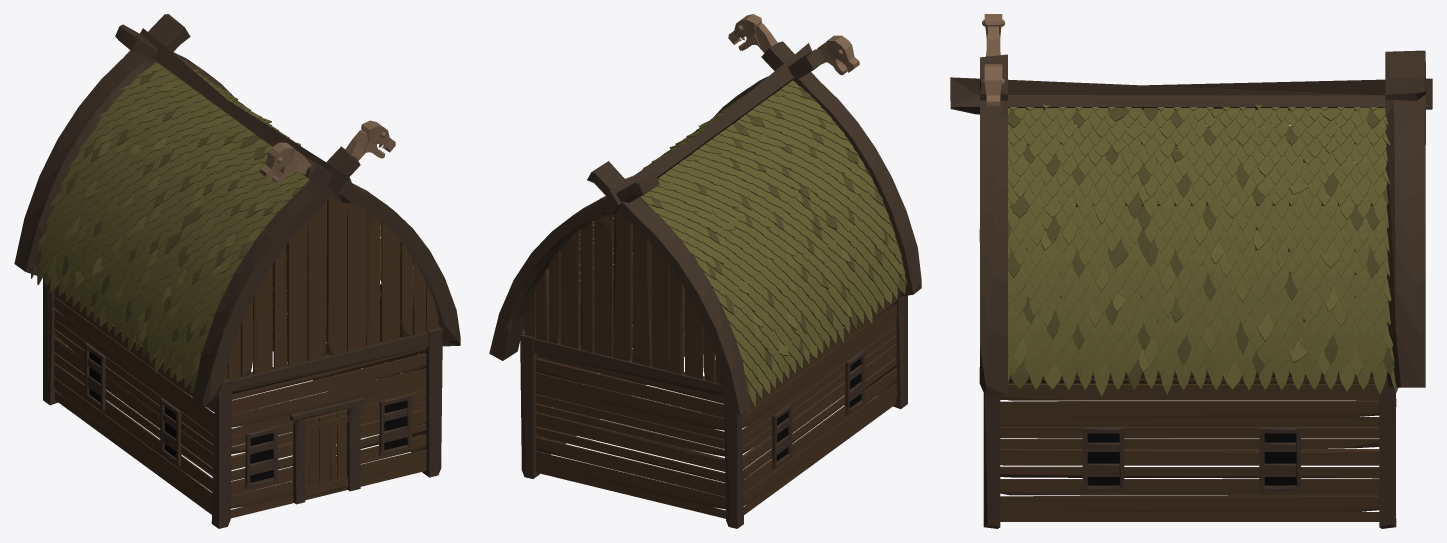
The model's file is SM_building_norse_01.fbx.
3 renders of one model, left to right at view 1: azimuth 30°, elevation 25°; view 2: azimuth 150°, elevation 25°; view 3: azimuth 270°, elevation 25°, orthographic. The views are drawn at different scales.
Visible parts, largest first — view 1: Object425; view 2: Object425; view 3: Object425.
Boxes of the visible parts, x1,y1,x2,y2 form: Object425: (14,14,460,528); Object425: (489,14,921,528); Object425: (950,14,1432,528).
Size of the model in its own units: 305 by 408 by 418.
